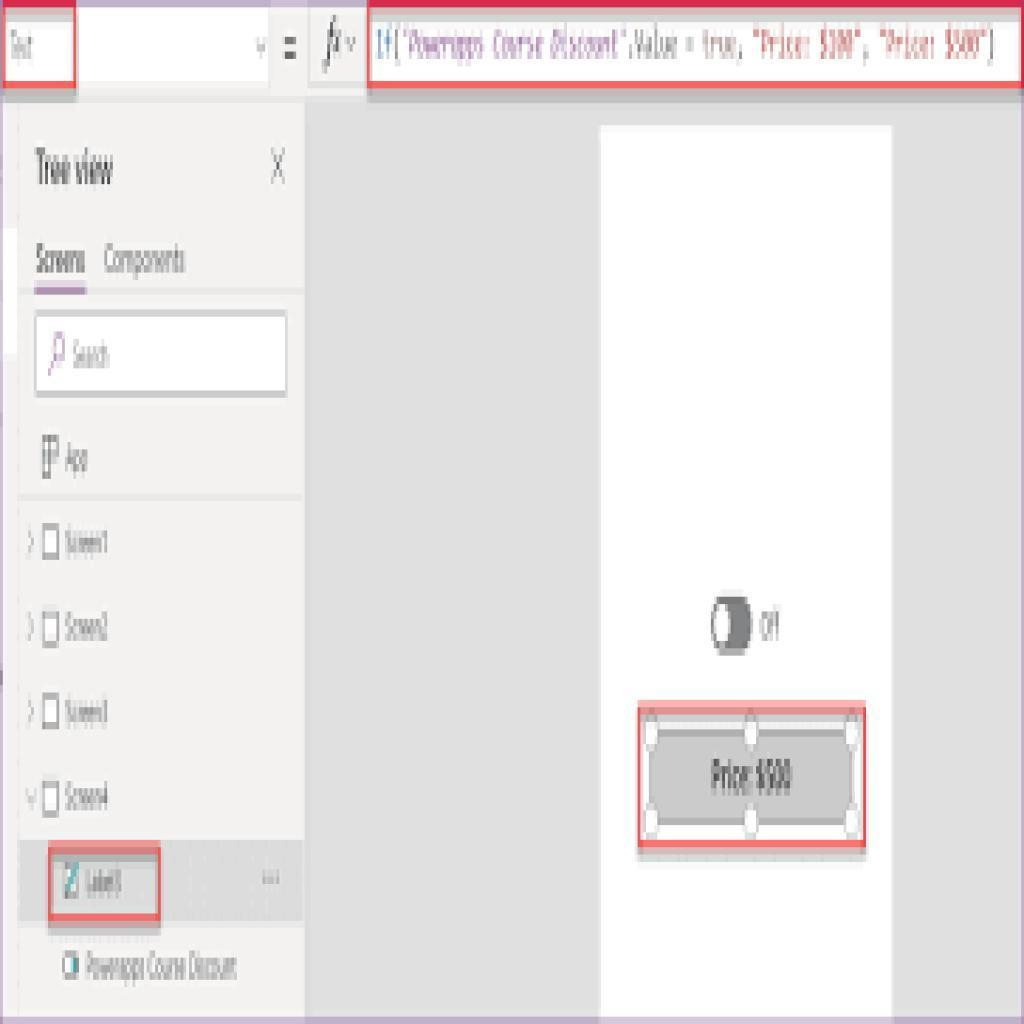input: (34, 312, 291, 392)
switch: (705, 588, 757, 664)
